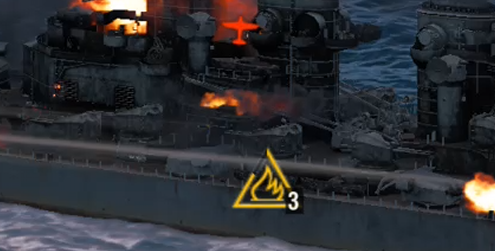3fire: (227, 169, 307, 212)
